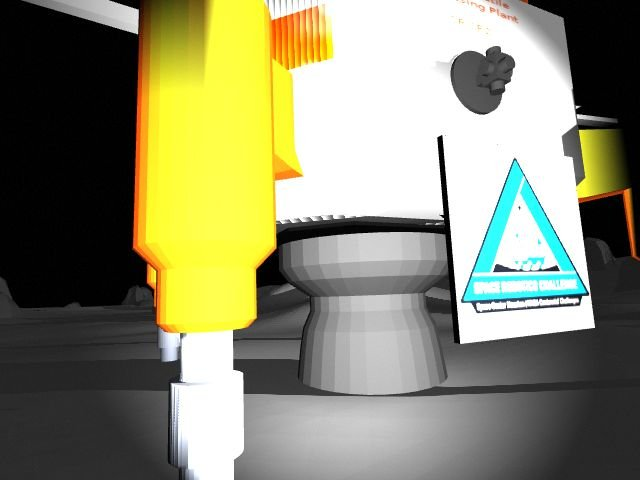basemarker: (461, 157, 591, 314)
